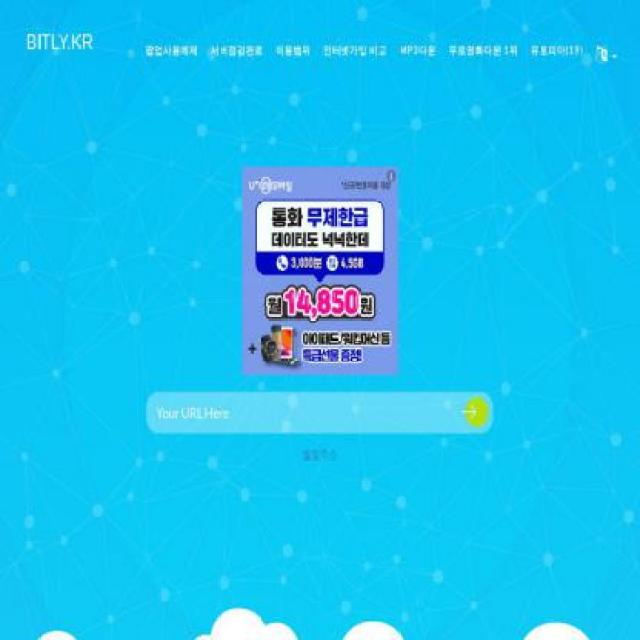button: (17, 21, 103, 79), (442, 21, 524, 81), (318, 21, 393, 81), (139, 21, 204, 81), (205, 21, 269, 81), (525, 21, 589, 81), (393, 21, 442, 81), (269, 21, 317, 81), (462, 397, 489, 428)
field: (146, 392, 494, 433)
